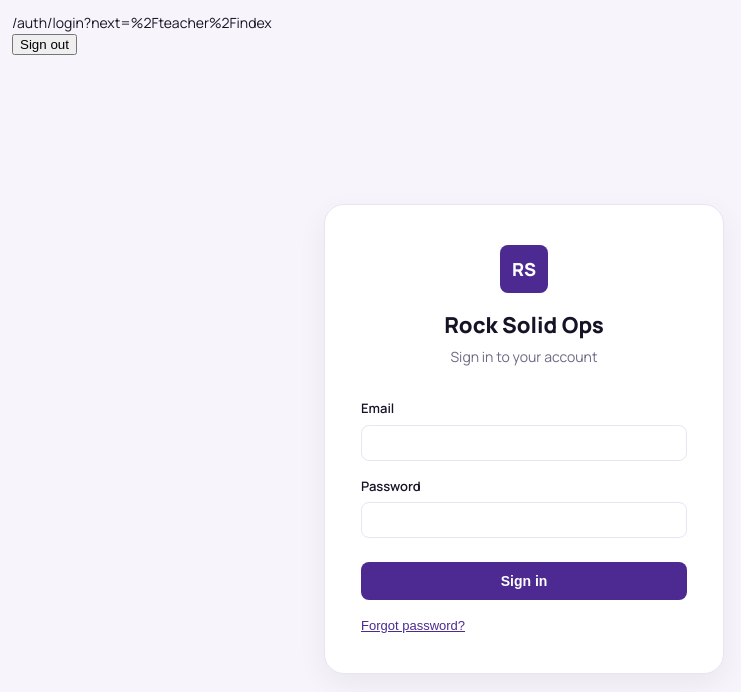
Test: first-login race › teacher lands in the teacher portal on the first attempt when the profile loads late
The width and height of the screenshot is (741, 692).
Step 1. Type "teacher@rso.test" into the field labelled "Email" → (524, 442), box [361, 424, 687, 460]
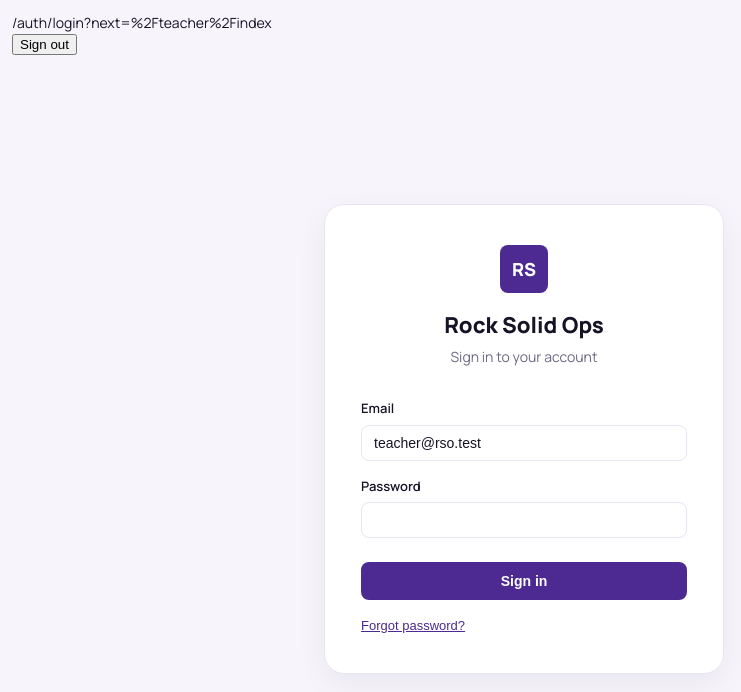
Step 2. Type "teacher-pass" into the password field labelled "Password" → (524, 520), box [361, 502, 687, 538]
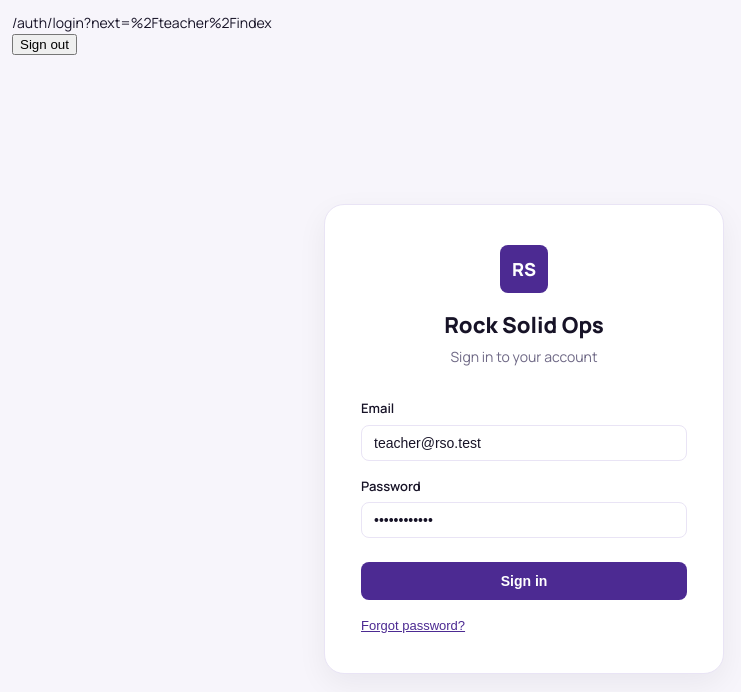
Step 3. Click the button "Sign in" → (524, 581), box [361, 562, 687, 600]
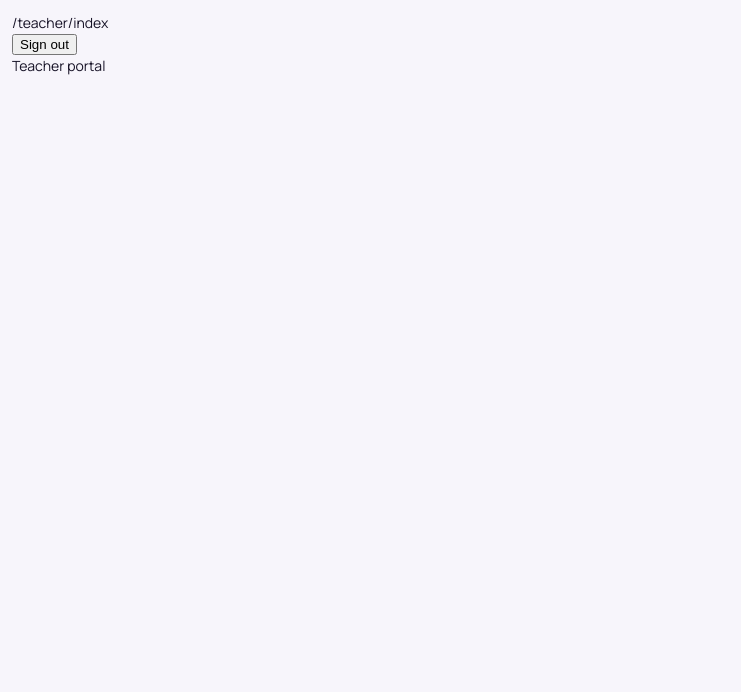
Expected: the text "Teacher portal" is shown, [12, 56, 105, 75]
